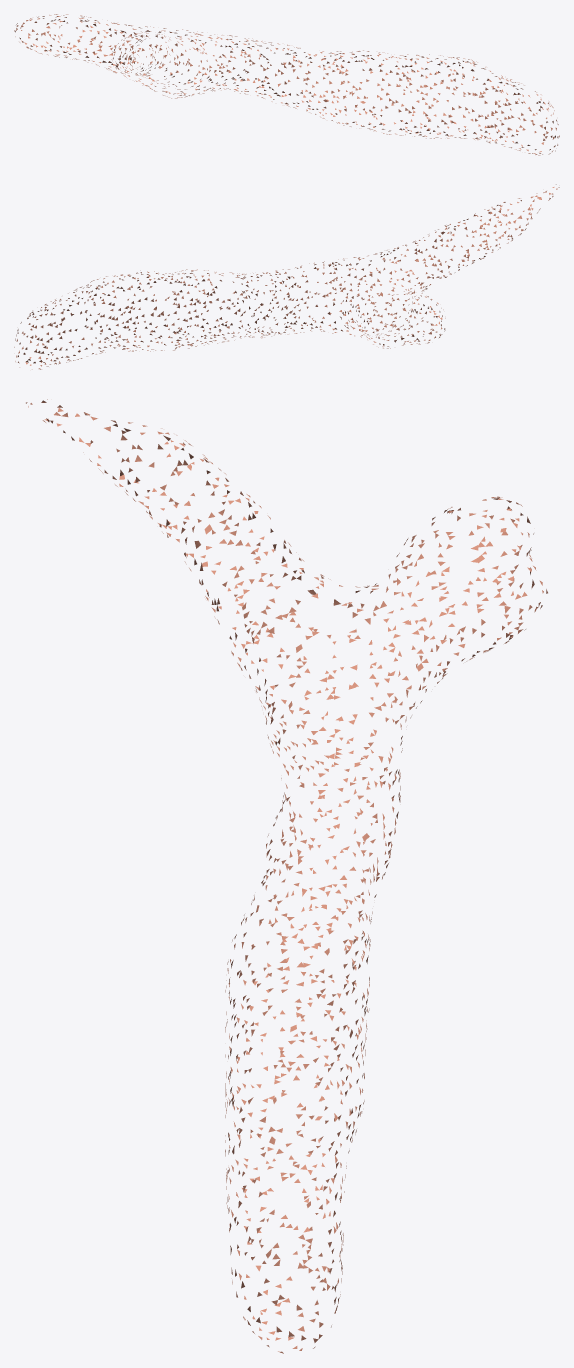
The model's file is morph_003.glb.
3 views of the same model, one above another, from view 1: azimuth 30°, elevation 25°; view 2: azimuth 150°, elevation 25°; view 3: azimuth 270°, elevation 25° (orthographic). The views are drawn at different scales.
Bounding box in the file's own units: 110 × 54.98 × 52.02.
